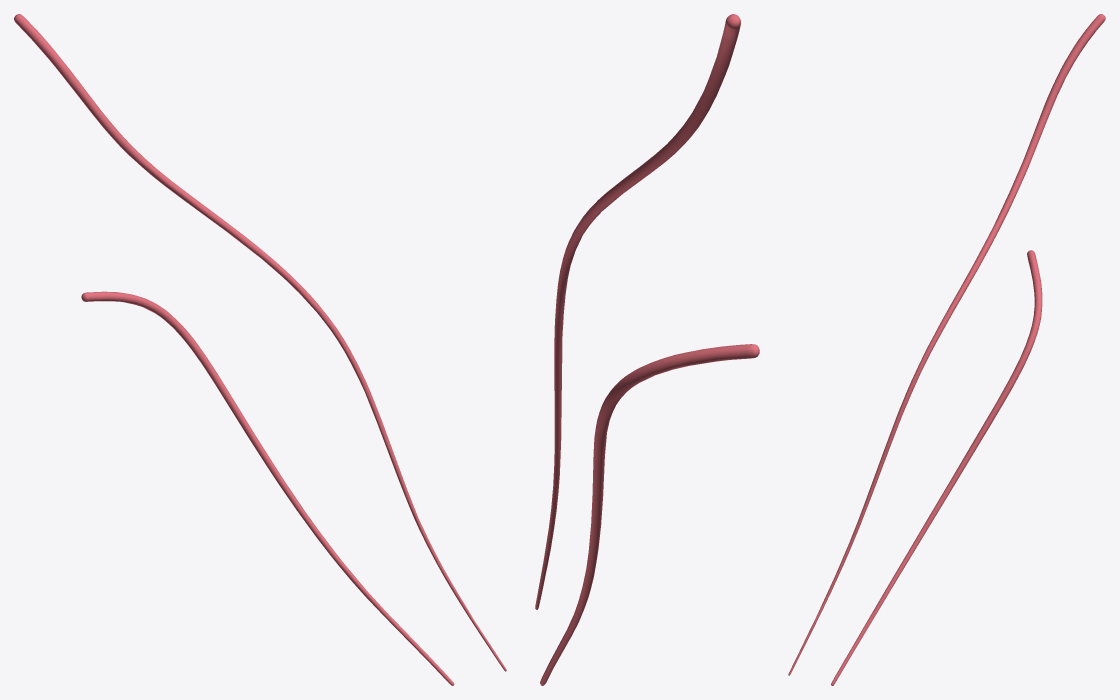
File: fma22907_cx48.glb
3 views of the same model, side by side, from view 1: azimuth 30°, elevation 25°; view 2: azimuth 150°, elevation 25°; view 3: azimuth 270°, elevation 25° (orthographic). The views are drawn at different scales.
Parts seen in each view (by area): view 1: FMA22907_CX48; view 2: FMA22907_CX48; view 3: FMA22907_CX48.
Boxes of the visible parts, x1,y1,x2,y2 form: FMA22907_CX48: [14, 14, 506, 685]; FMA22907_CX48: [535, 14, 759, 685]; FMA22907_CX48: [788, 14, 1105, 685].
Bounding box in the file's own units: 0.051 × 0.0974 × 0.0508.
